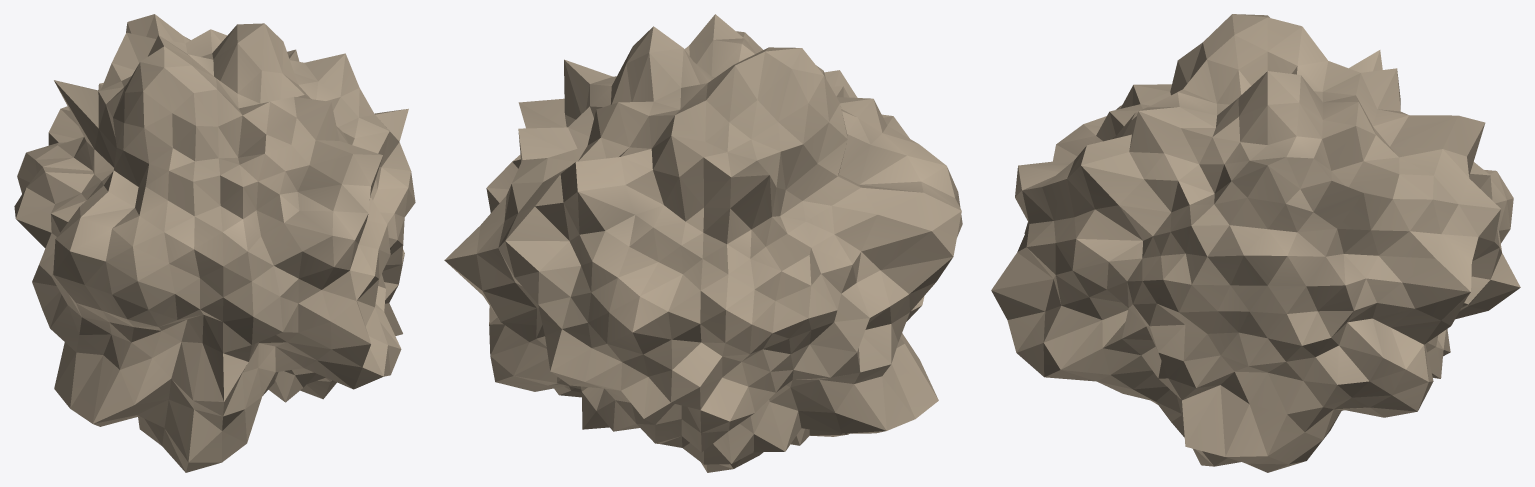
File: stone_rough_03_ochre.glb
3 views of the same model, side by side, from view 1: azimuth 30°, elevation 25°; view 2: azimuth 150°, elevation 25°; view 3: azimuth 270°, elevation 25° (orthographic). The views are drawn at different scales.
Visible parts, largest first — view 1: stone_rough_03_ochre; view 2: stone_rough_03_ochre; view 3: stone_rough_03_ochre.
Part boxes in pixels (<box>): stone_rough_03_ochre: <box>14,14,415,472</box>; stone_rough_03_ochre: <box>444,14,962,472</box>; stone_rough_03_ochre: <box>991,14,1520,472</box>.
Bounding box in the file's own units: 0.1386 × 0.134 × 0.1606.
